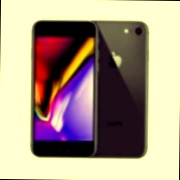iphone: (81, 20, 151, 158)
